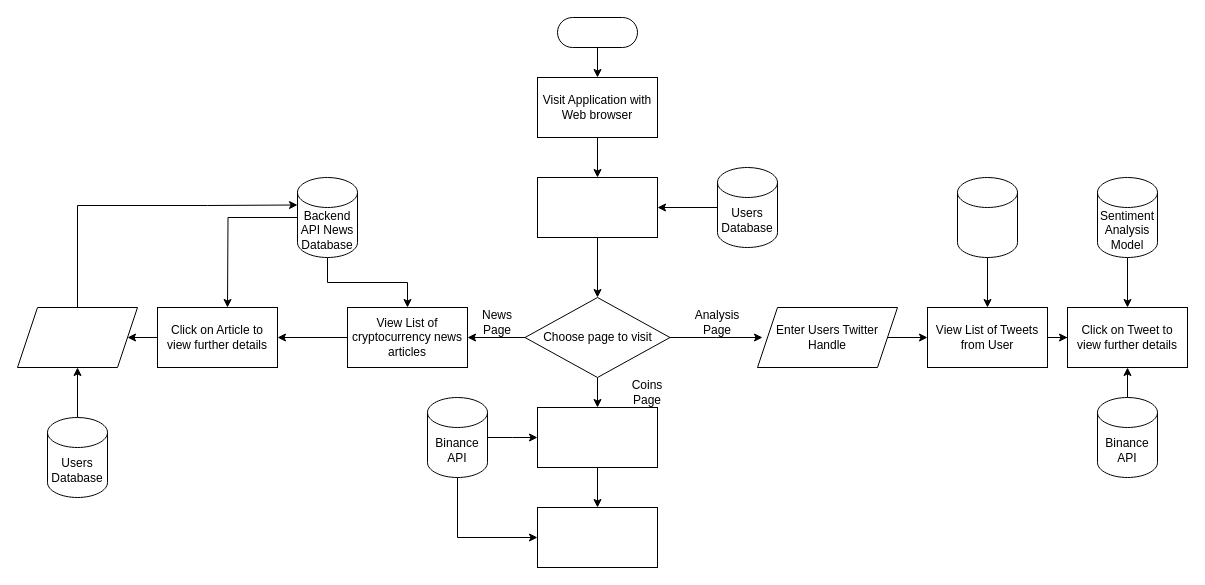
The diagram is 1205 pixels wide and 585 high, and some of its shapes have lost their labels. Here are the shapes that lost their labels. From the top down, the box of each, then its label:
(556, 16, 638, 48): Start
(536, 176, 658, 238): Login / Register on Authentication Page
(956, 176, 1018, 258): Twitter API
(16, 306, 138, 368): Add comment to article
(536, 406, 658, 468): View List of top 50 cryptocurrencies
(536, 506, 658, 568): Click on Coin to view further details
